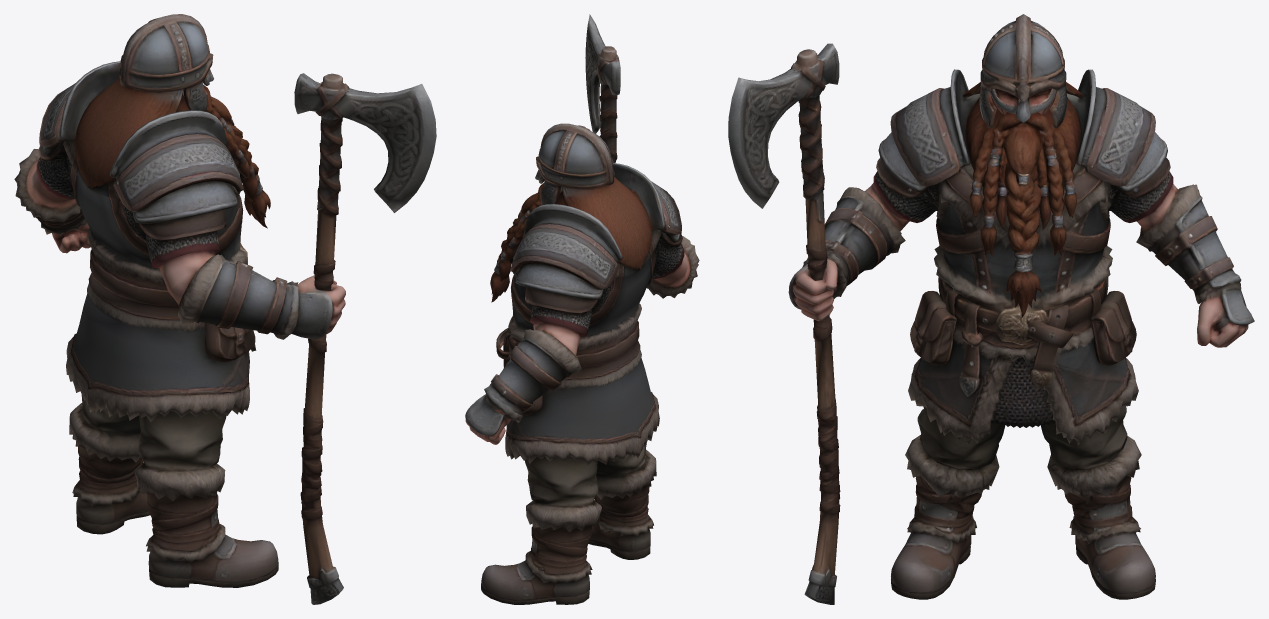
3 views of the same model, side by side, from view 1: azimuth 30°, elevation 25°; view 2: azimuth 150°, elevation 25°; view 3: azimuth 270°, elevation 25° (orthographic). The views are drawn at different scales.
Visible parts, largest first — view 1: tripo_node_b6865924-ba4f-4e26-88ec-68adaf3a8a2c; view 2: tripo_node_b6865924-ba4f-4e26-88ec-68adaf3a8a2c; view 3: tripo_node_b6865924-ba4f-4e26-88ec-68adaf3a8a2c.
Boxes of the visible parts, bbox=[...] form: tripo_node_b6865924-ba4f-4e26-88ec-68adaf3a8a2c: bbox=[14, 14, 436, 604]; tripo_node_b6865924-ba4f-4e26-88ec-68adaf3a8a2c: bbox=[465, 14, 699, 604]; tripo_node_b6865924-ba4f-4e26-88ec-68adaf3a8a2c: bbox=[728, 14, 1254, 604].
Bounding box in the file's own units: 0.4136 × 0.9995 × 0.854.
1 material, 1 textured.
